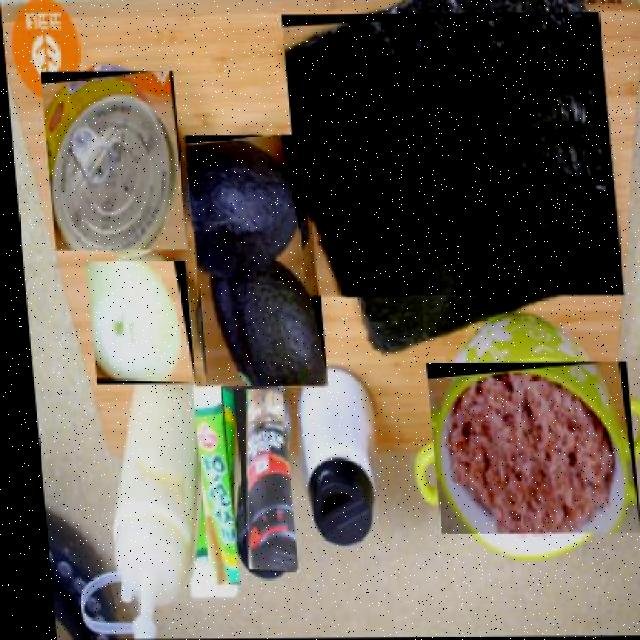Avocado: (180, 133, 320, 387)
Onion: (80, 259, 188, 384)
Seaweed: (279, 12, 618, 297)
